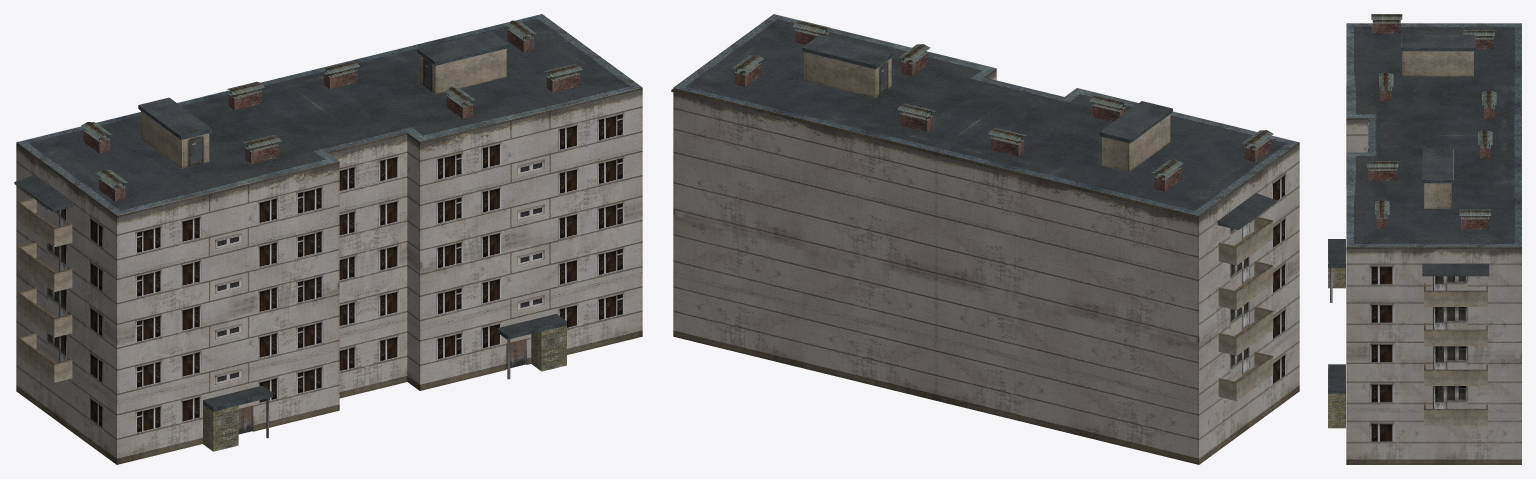
The picture shows the model from 3 angles, left to right: view 1: azimuth 30°, elevation 25°; view 2: azimuth 150°, elevation 25°; view 3: azimuth 270°, elevation 25°; orthographic projection. The views are drawn at different scales.
Visible parts, largest first — view 1: b2; view 2: b2; view 3: b2.
Boxes of the visible parts, bbox=[...] form: b2: bbox=[14, 14, 642, 464]; b2: bbox=[671, 14, 1299, 464]; b2: bbox=[1328, 14, 1521, 464].
Bounding box in the file's own units: 45.24 × 21.62 × 15.32.
Materials: 1 (1 with a texture image).
